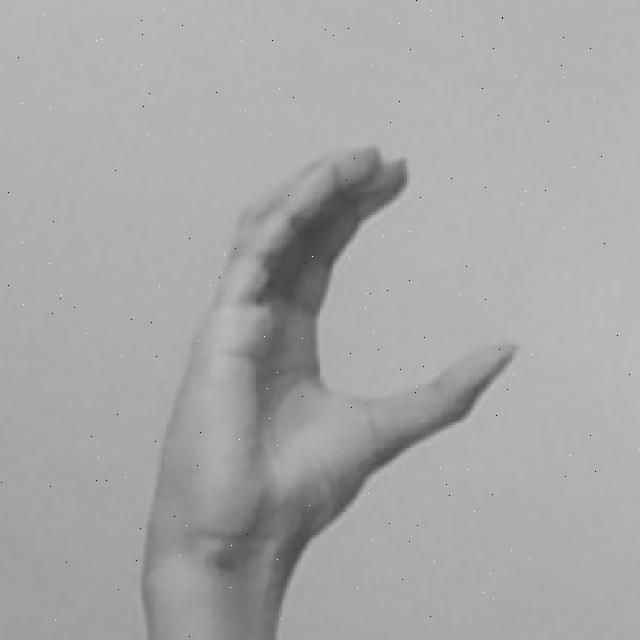C: (138, 138, 519, 640)
